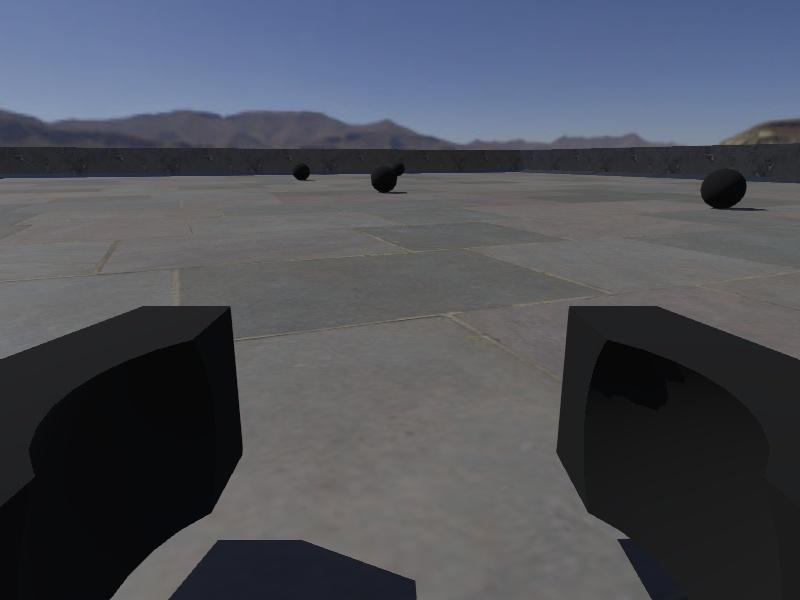black ball: (700, 167, 748, 209), (370, 162, 397, 195), (292, 162, 312, 181)
